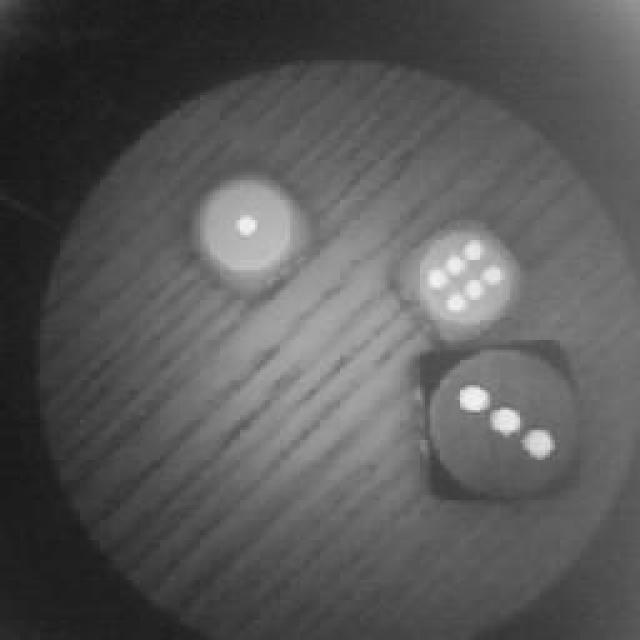dice_1: (188, 168, 318, 298)
dice_3: (420, 335, 585, 505)
dice_6: (397, 212, 525, 348)
